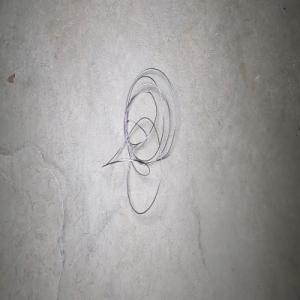Wire: (101, 67, 176, 214)
